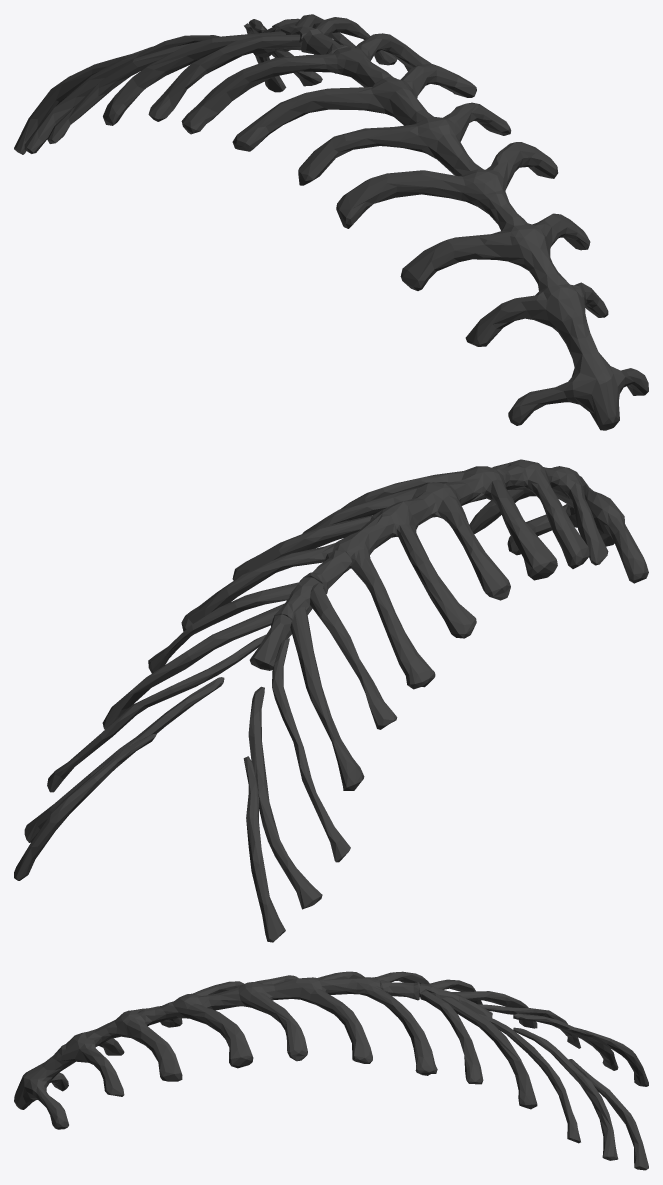
The model's file is b_sternum.glb.
The picture shows the model from 3 angles, top to bottom: view 1: azimuth 30°, elevation 25°; view 2: azimuth 150°, elevation 25°; view 3: azimuth 270°, elevation 25°; orthographic projection. The views are drawn at different scales.
Parts seen in each view (by area): view 1: b_sternum; view 2: b_sternum; view 3: b_sternum.
Part boxes in pixels (box(x1,y1,x2,y2)): b_sternum: box(14, 14, 648, 430); b_sternum: box(14, 459, 648, 942); b_sternum: box(14, 971, 648, 1170).
Size of the model in its own units: 0.0356 by 0.025 by 0.0961.
Materials: 1 (1 with a texture image).
